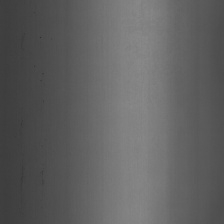inclusion: (33, 147, 48, 201), (16, 19, 33, 61), (38, 70, 46, 109)
